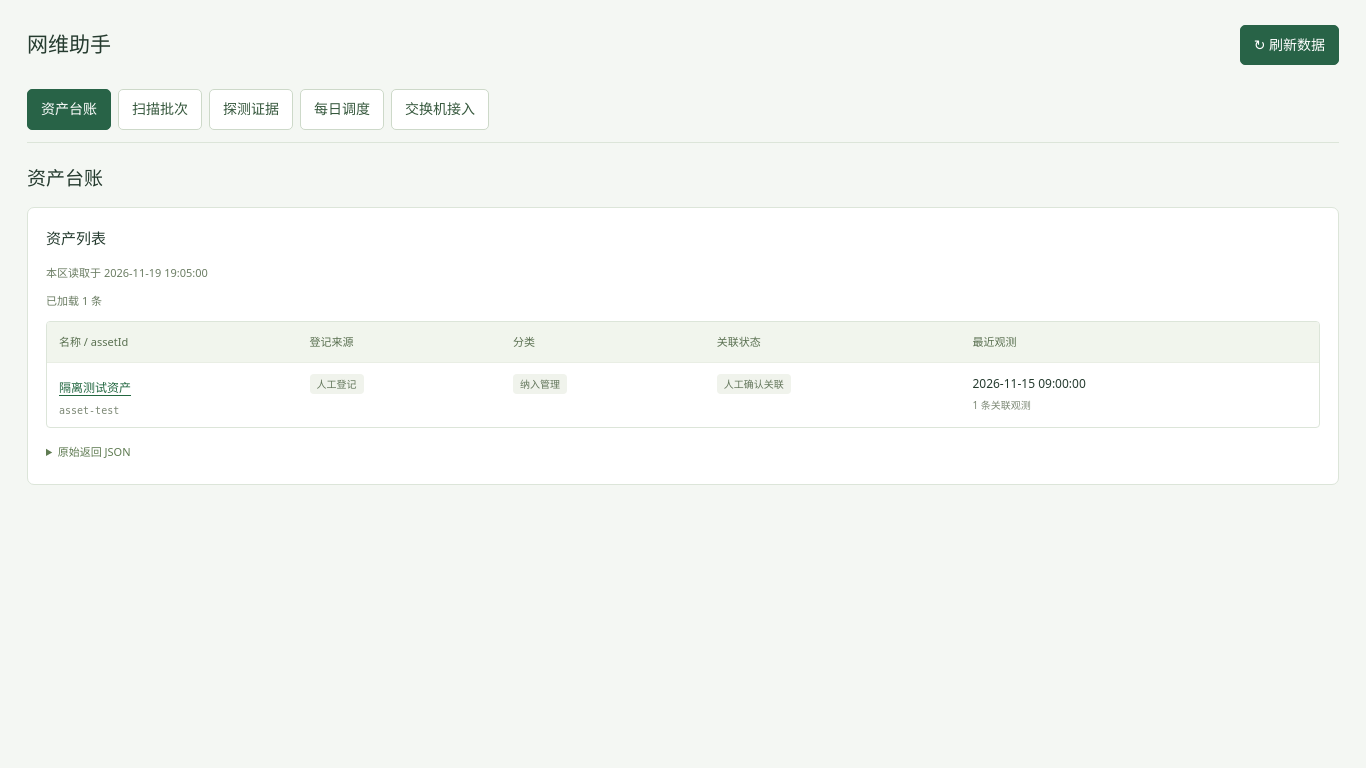
最小工作台真实读取语义（隔离响应） › 403 清空受限目录及已打开的详情，其他页面仍可读取
What coordinates should you click on to do the following:
click the button with aria-label "查看 隔离测试资产"
I would click on:
 (95, 388)
Its box is [59,374,131,401].
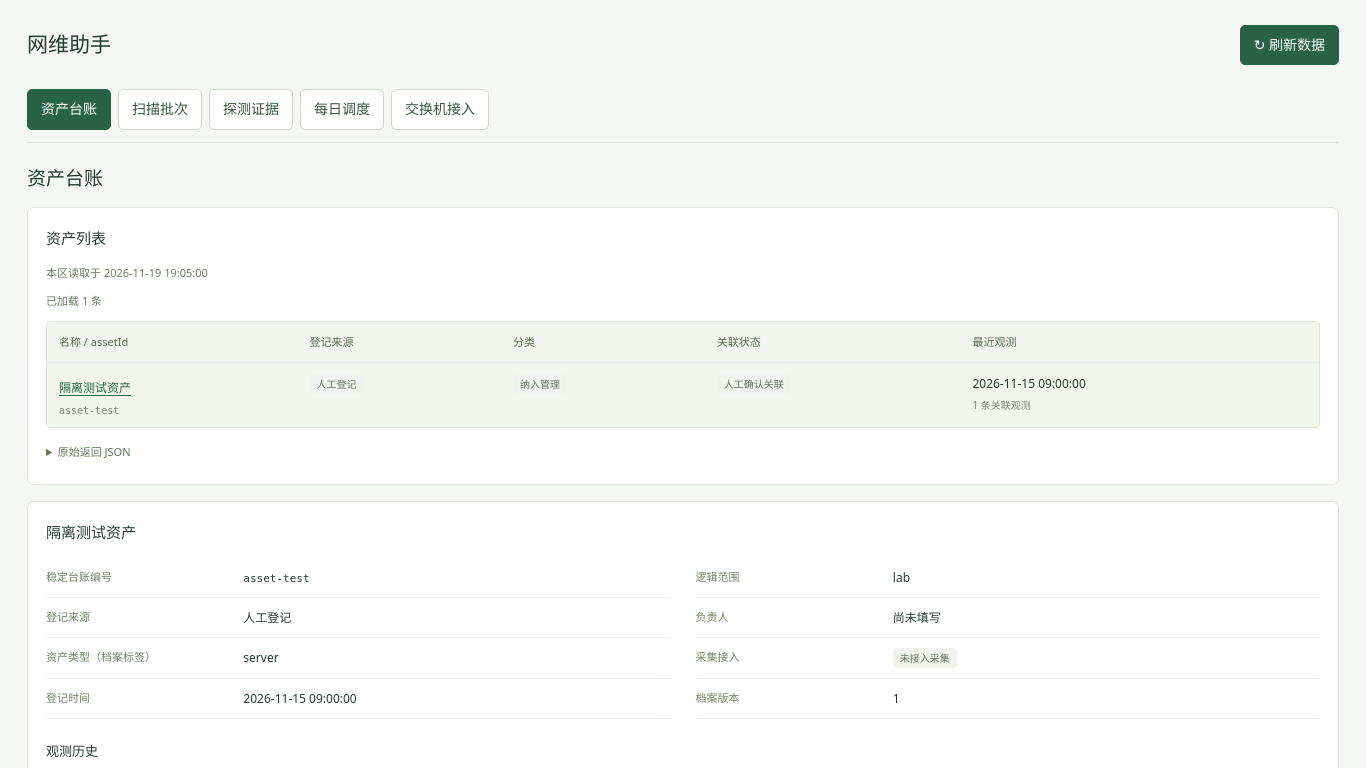
What coordinates should you click on to do the following:
click the button "↻ 刷新数据"
I would click on:
 (1289, 45)
Its box is [1240,25,1339,65].
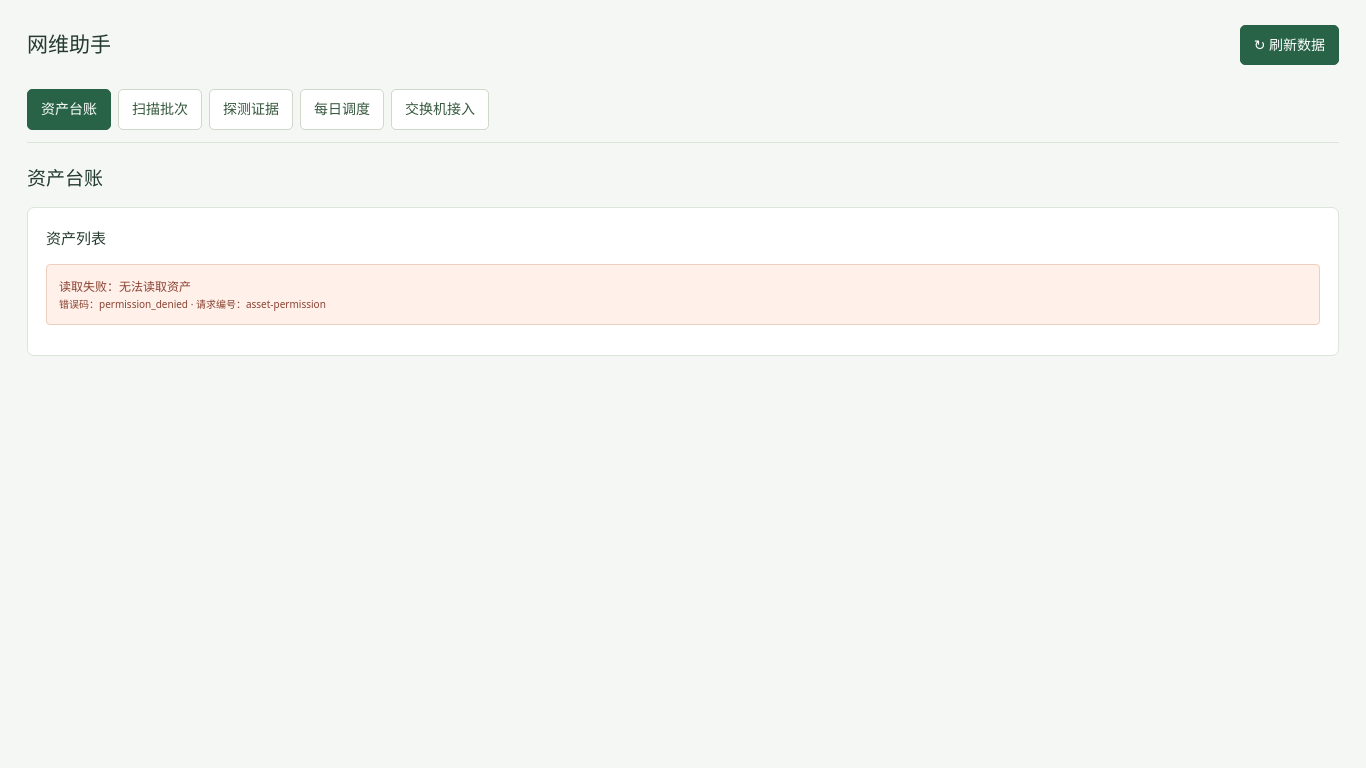
Check: the text "错误码：permission_denied · 请求编号：asset-permission" is shown, box [59,297,326,311]
What coordinates should you click on to do the following:
click the button "每日调度"
I would click on:
 (342, 110)
Its box is [300,89,384,130].
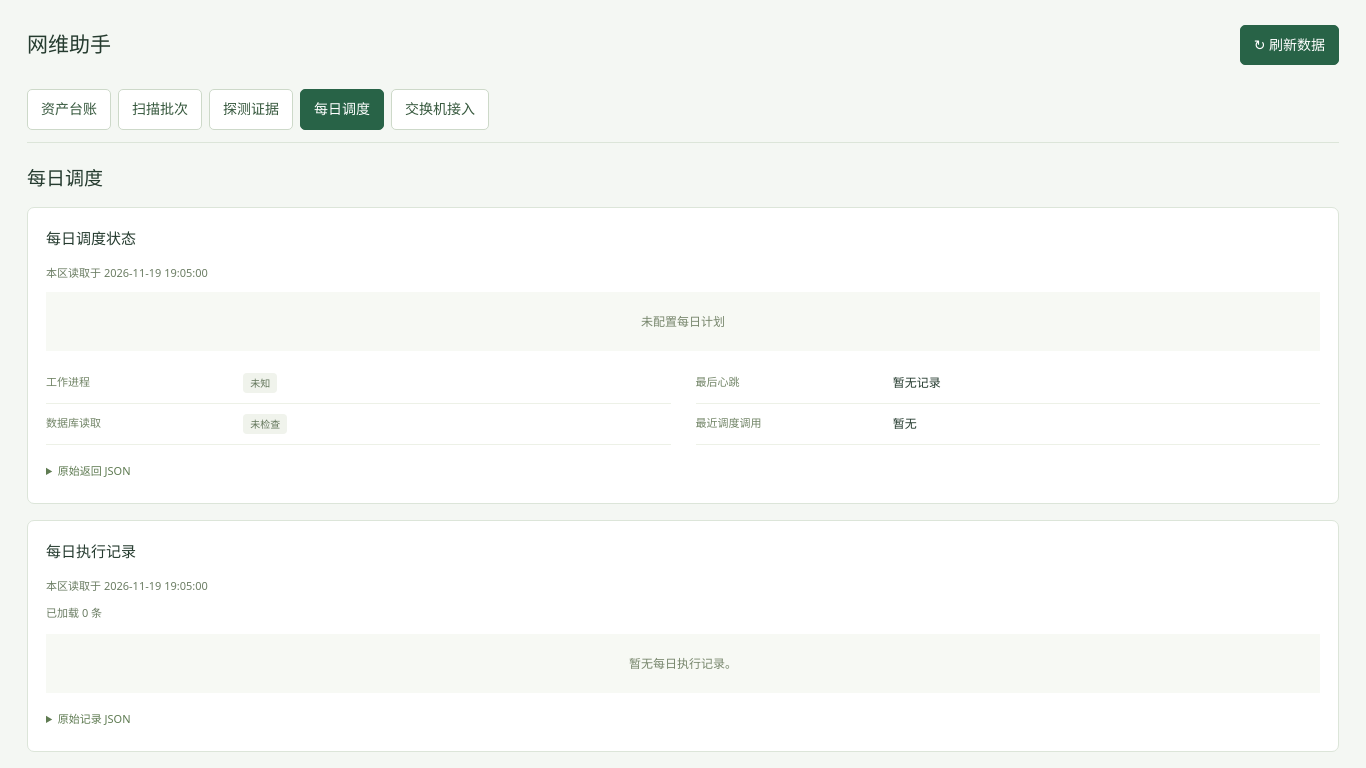
Check: the text "未配置每日计划" is shown, box [46,292,1320,351]
